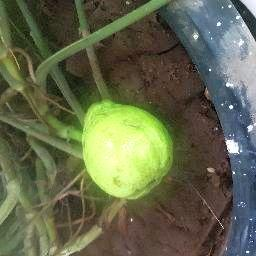guava: (80, 97, 170, 201)
